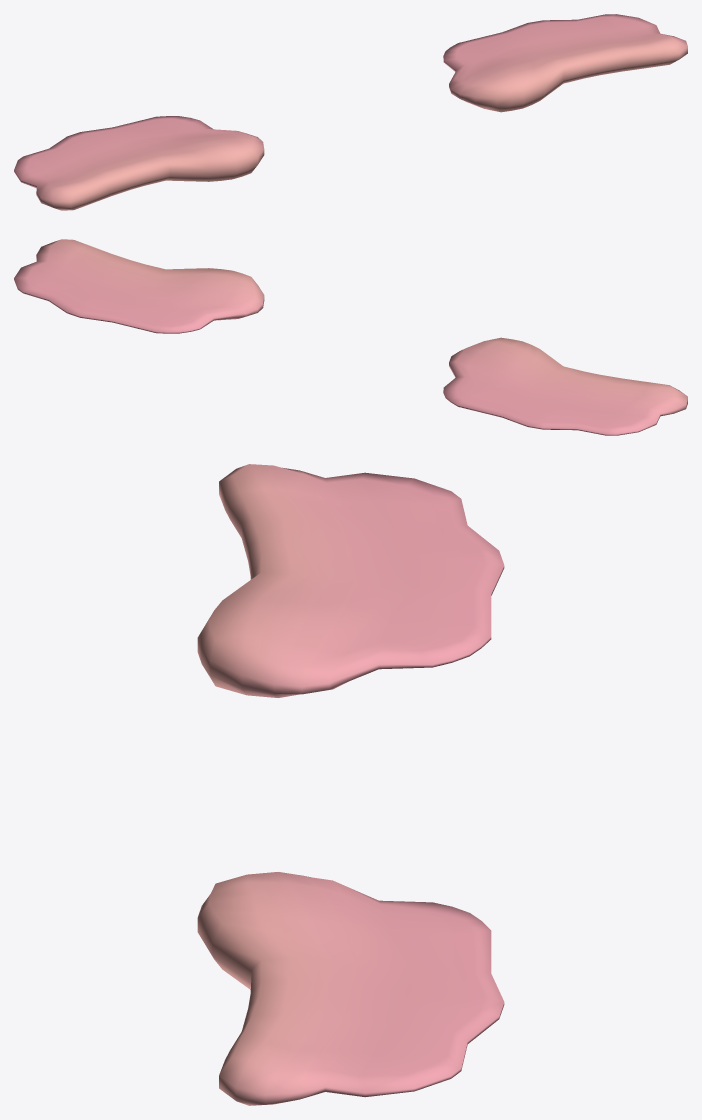
Rendered from Ailes.fbx.
The picture shows the model from 3 angles, top to bottom: view 1: azimuth 30°, elevation 25°; view 2: azimuth 150°, elevation 25°; view 3: azimuth 270°, elevation 25°; orthographic projection. The views are drawn at different scales.
Parts seen in each view (by area): view 1: Plane.005, Plane.004; view 2: Plane.004, Plane.005; view 3: Plane.004, Plane.005.
Boxes of the visible parts, x1,y1,x2,y2 form: Plane.005: (14,116,264,210); Plane.004: (443,14,687,112); Plane.004: (14,239,264,333); Plane.005: (443,337,687,435); Plane.004: (197,872,504,1105); Plane.005: (197,464,504,697).
Size of the model in its own units: 350 by 15.83 by 72.15.
